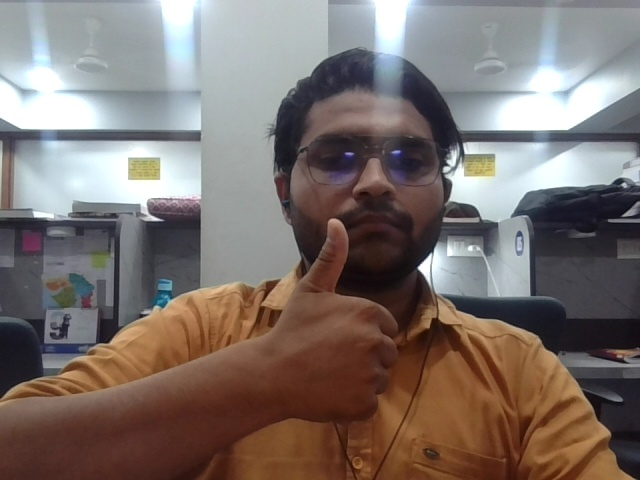ThumbsUp: (278, 218, 408, 433)
